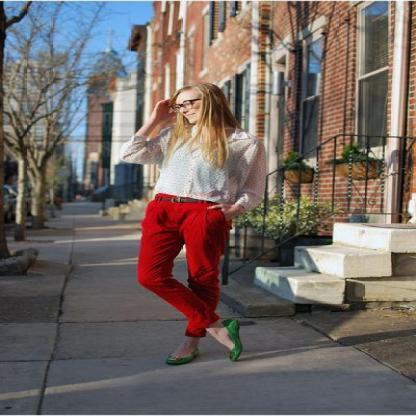pants: (137, 193, 232, 337)
shirt: (119, 125, 274, 211), (162, 196, 203, 203)
shoe: (226, 325, 252, 361)
